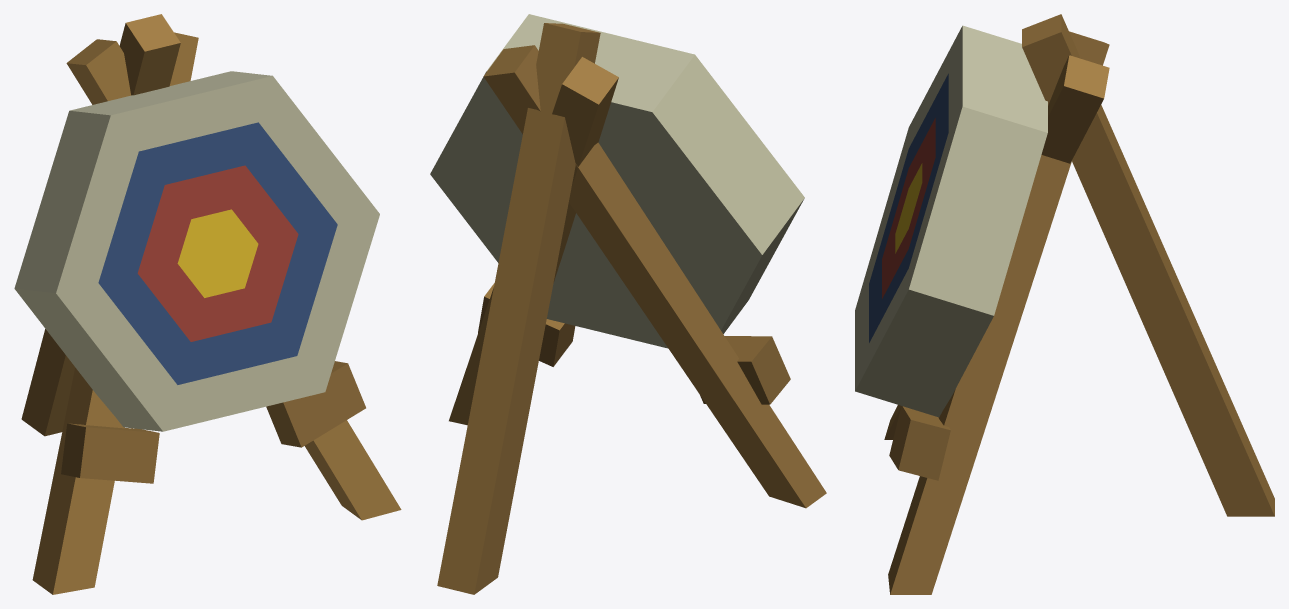
The model's file is Target.gltf.
The picture shows the model from 3 angles, left to right: view 1: azimuth 30°, elevation 25°; view 2: azimuth 150°, elevation 25°; view 3: azimuth 270°, elevation 25°; orthographic projection. The views are drawn at different scales.
Parts seen in each view (by area): view 1: SF_Prop_Target_01; view 2: SF_Prop_Target_01; view 3: SF_Prop_Target_01.
Boxes of the visible parts, left/top/right/bottom form: SF_Prop_Target_01: left=14, top=14, right=401, bottom=594; SF_Prop_Target_01: left=430, top=14, right=826, bottom=594; SF_Prop_Target_01: left=855, top=14, right=1274, bottom=594.
Bounding box in the file's own units: 0.0204 × 0.0264 × 0.0207.
1 material, 1 textured.
